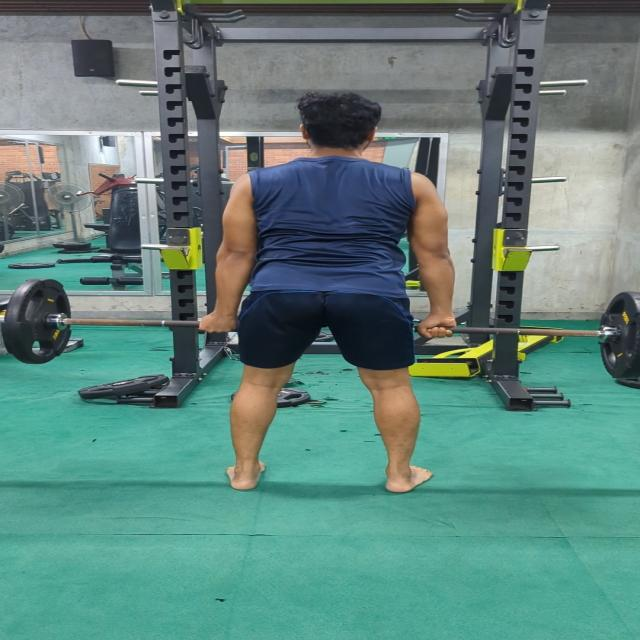Normal_Deadlifts: (196, 93, 458, 494)
